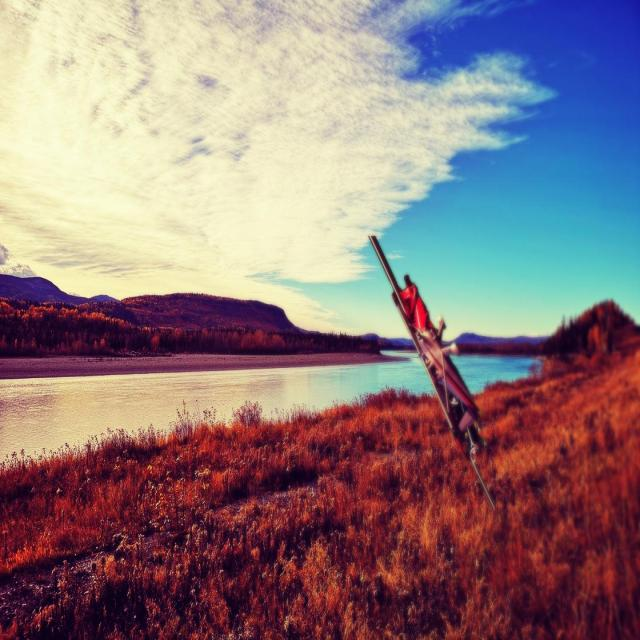airplane: (367, 234, 496, 510)
